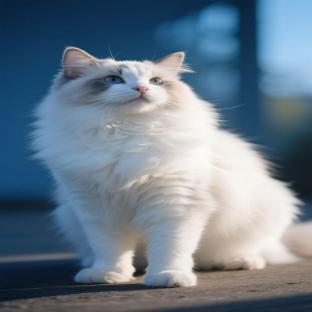Animal: (32, 47, 301, 287)
